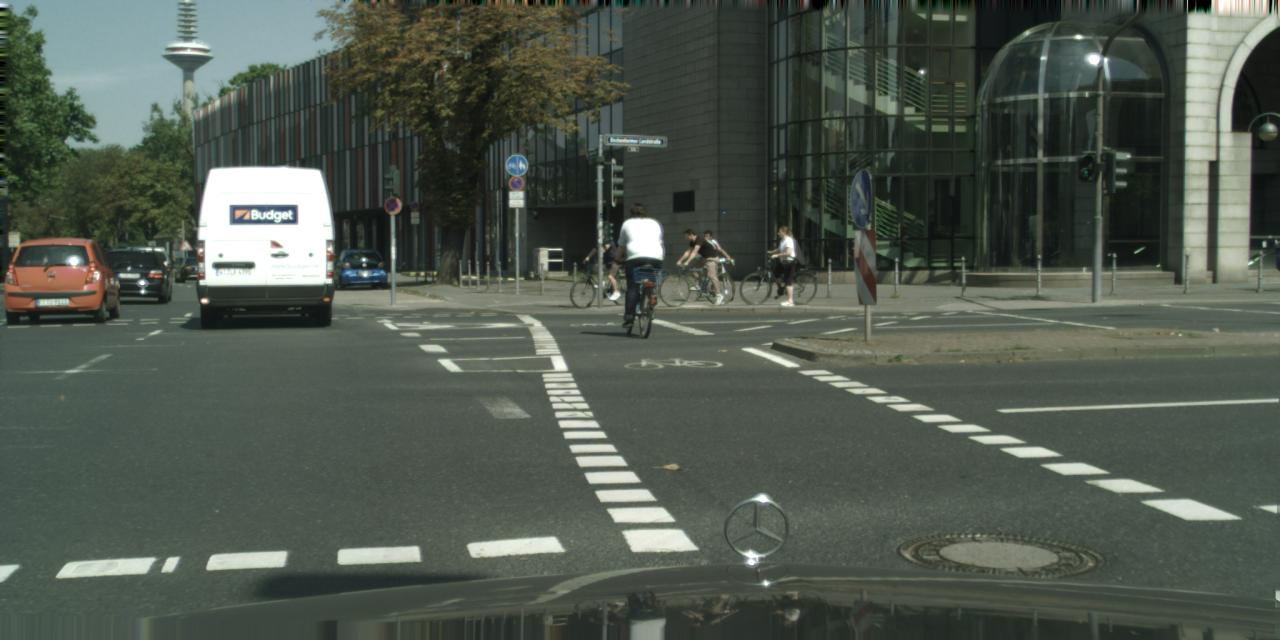ped: (616, 203, 661, 315), (768, 226, 797, 298), (684, 229, 711, 296), (591, 229, 617, 293), (698, 230, 721, 288)
